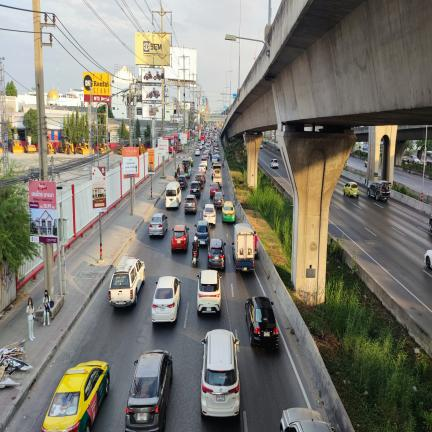car: (125, 349, 173, 432), (201, 329, 240, 418), (108, 255, 145, 307), (245, 296, 278, 348), (152, 276, 182, 322), (280, 408, 335, 432), (197, 270, 221, 315), (208, 238, 226, 271), (171, 225, 189, 253), (149, 213, 168, 237), (195, 220, 210, 245), (203, 204, 216, 225), (343, 182, 359, 198), (184, 195, 197, 214), (190, 181, 201, 199), (213, 191, 224, 209), (195, 171, 205, 189), (177, 174, 188, 189), (210, 183, 219, 198), (198, 170, 206, 183), (198, 163, 207, 172), (187, 156, 193, 167), (207, 270, 210, 271), (283, 430, 286, 430), (210, 271, 212, 271)
motorbike: (192, 250, 198, 268), (222, 161, 224, 167)
taxi: (42, 361, 110, 432), (222, 201, 235, 223), (187, 157, 193, 167)
truck: (232, 224, 255, 272), (367, 181, 391, 201), (212, 164, 222, 188), (182, 159, 191, 178)
van: (165, 181, 181, 209)
